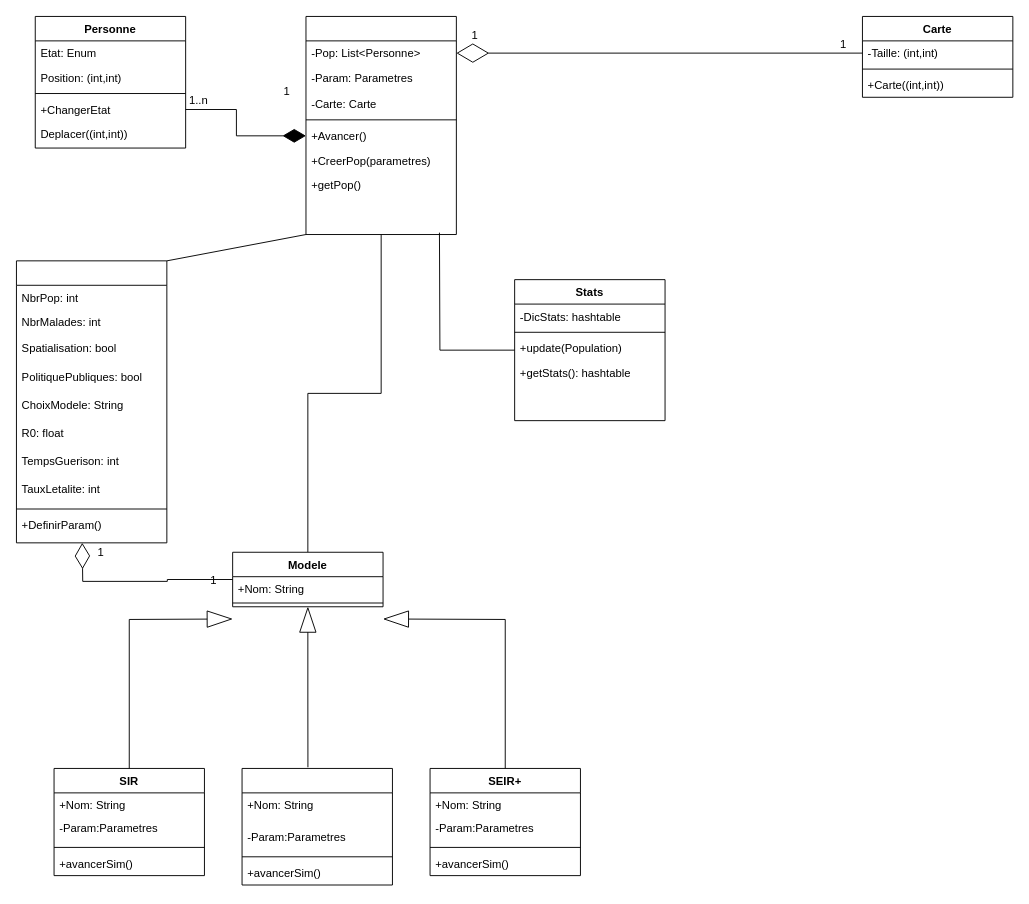
Some shapes in this 1029 by 904 pixel diagram are drawn without their labels. The shapes that lost their labels are listed below. From the top down, each one's box as (x1, y1, x2, y2) in pixels, then its label:
(305, 16, 456, 235): Population
(16, 260, 167, 543): Parametres
(241, 768, 392, 885): SEIR
